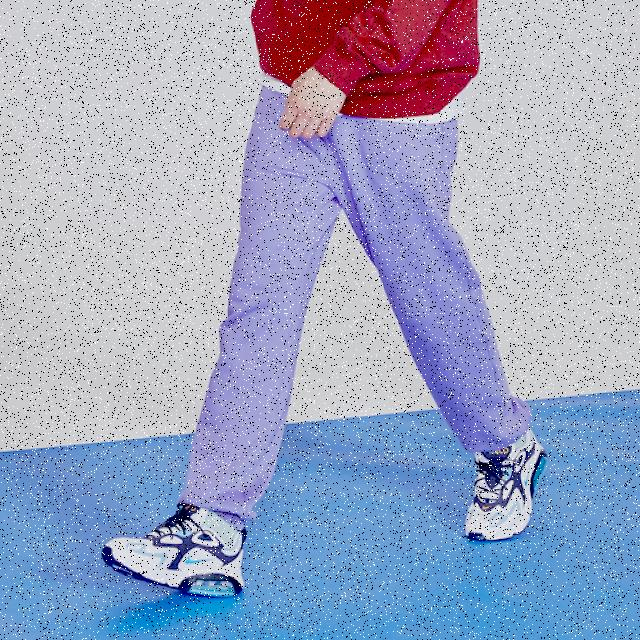Blouse_deep: (173, 80, 530, 525)
